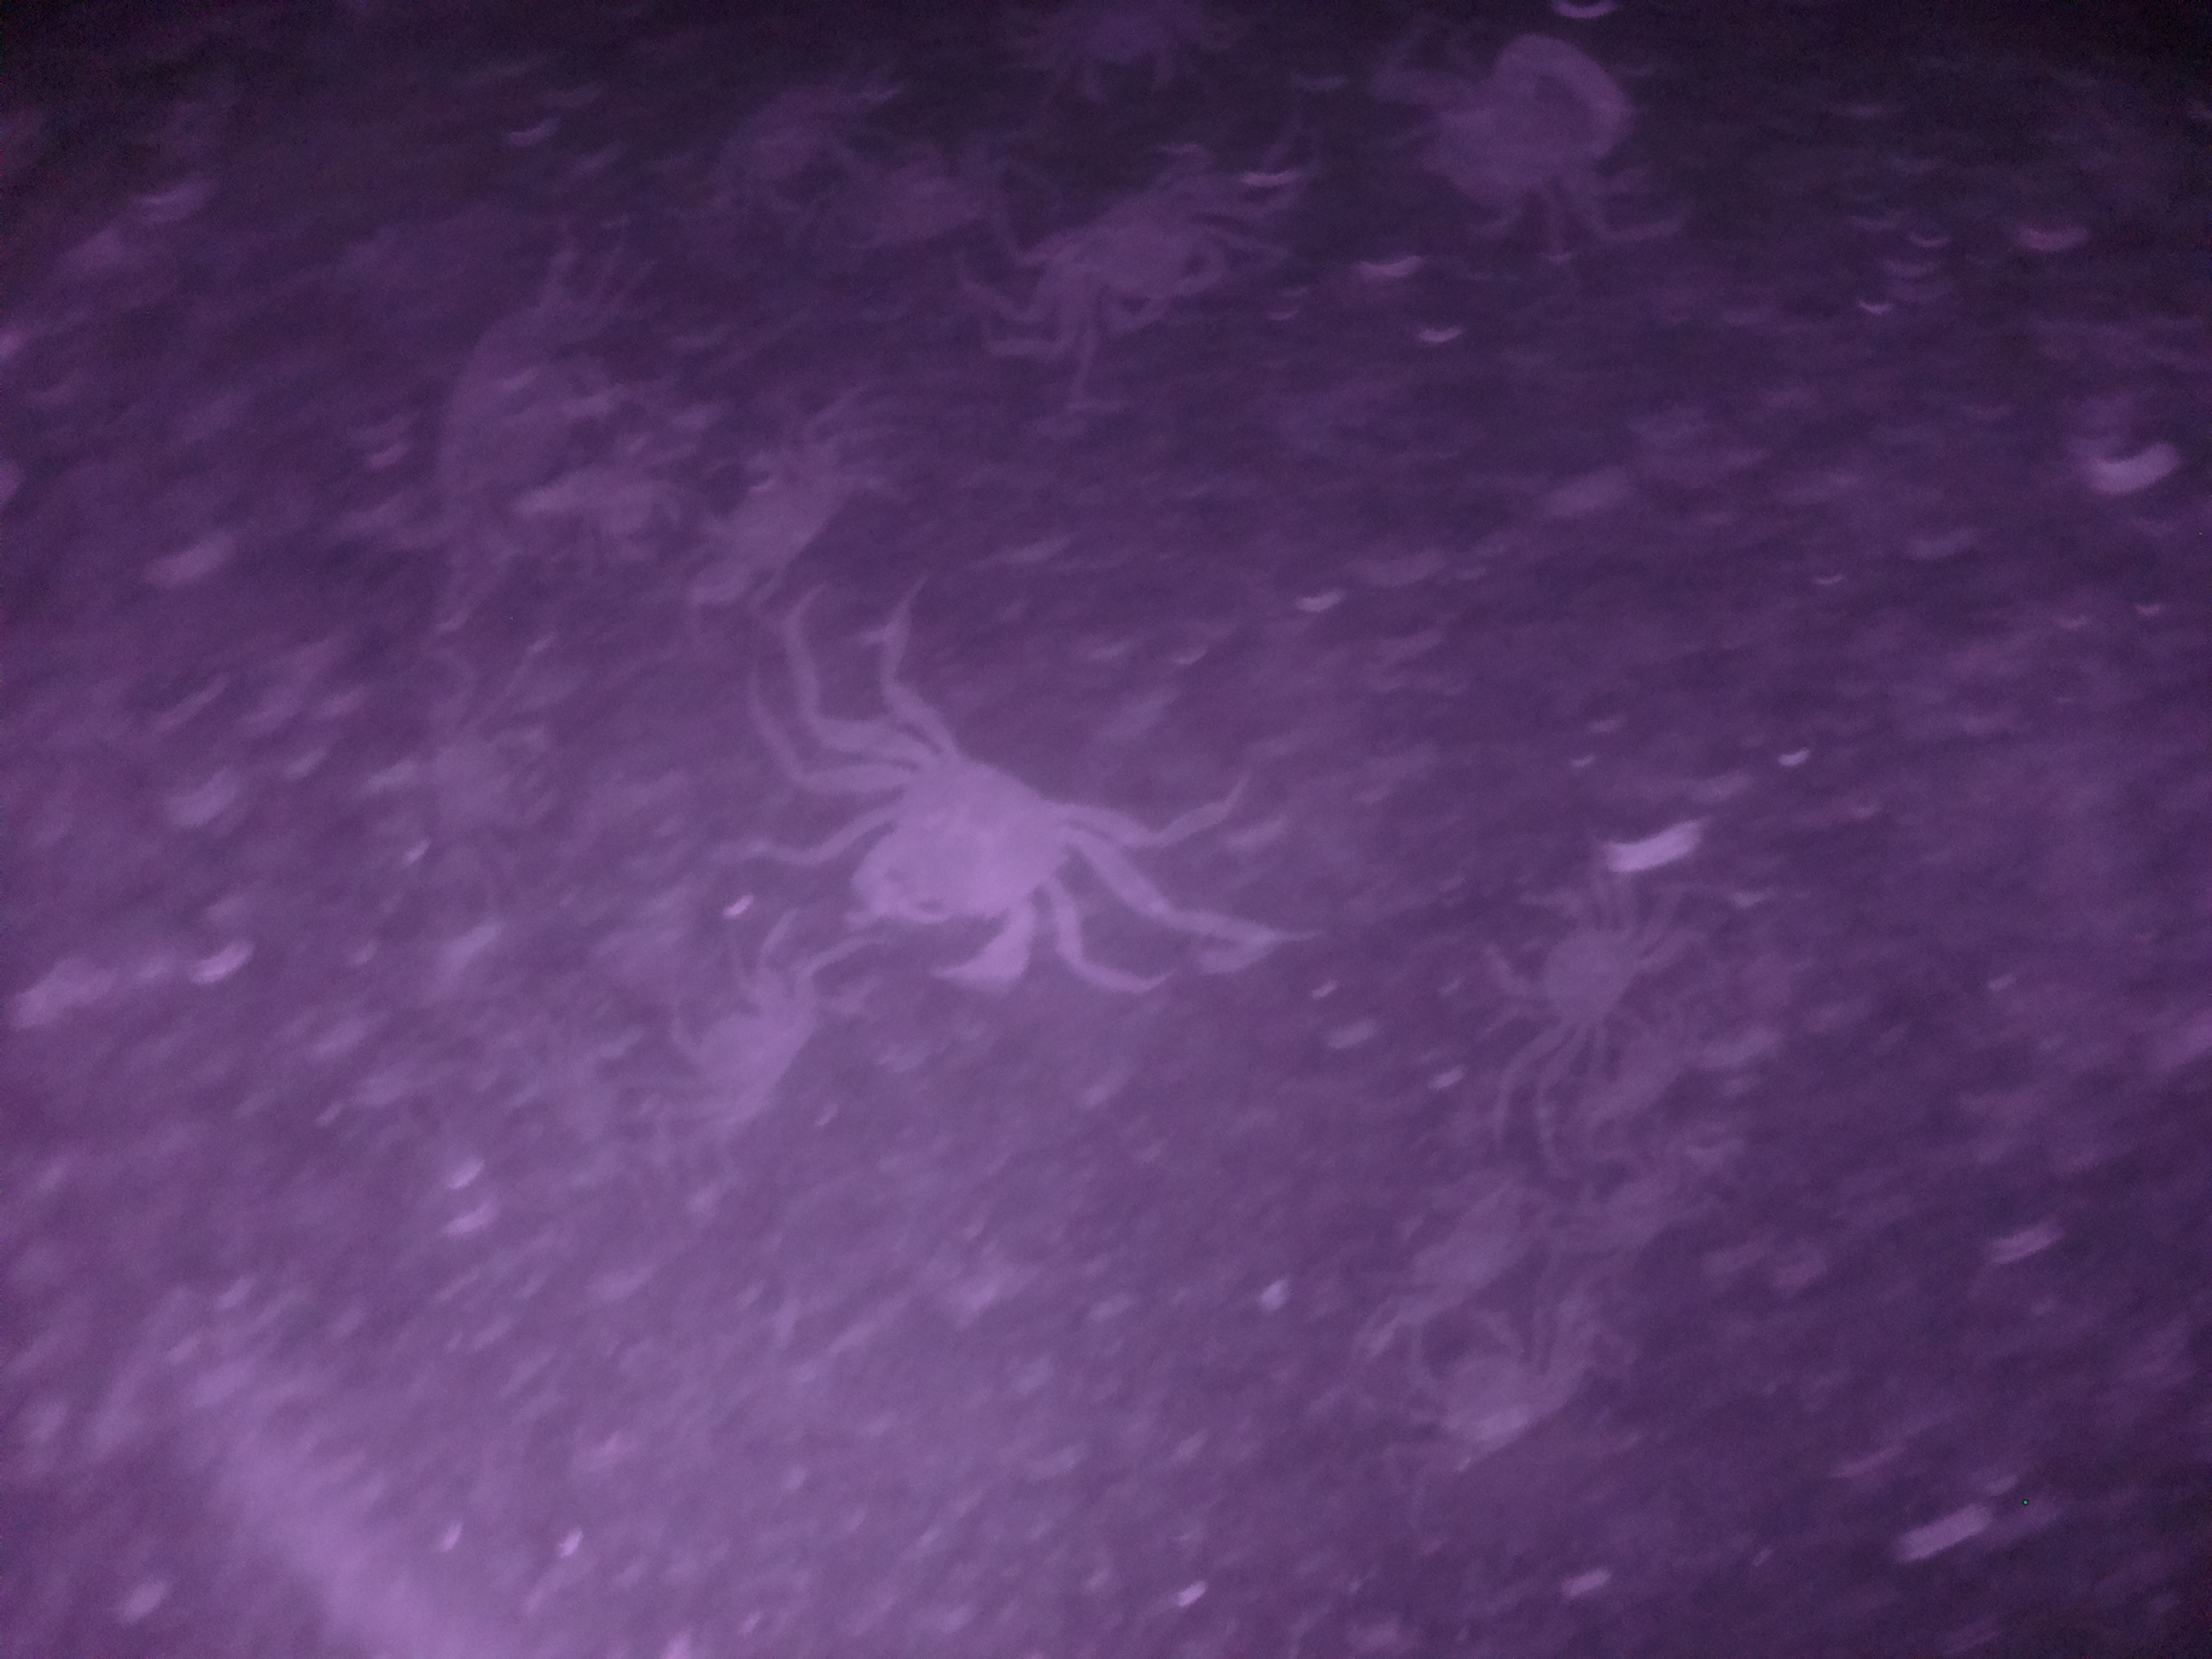Crab: (1480, 859, 1670, 1077)
